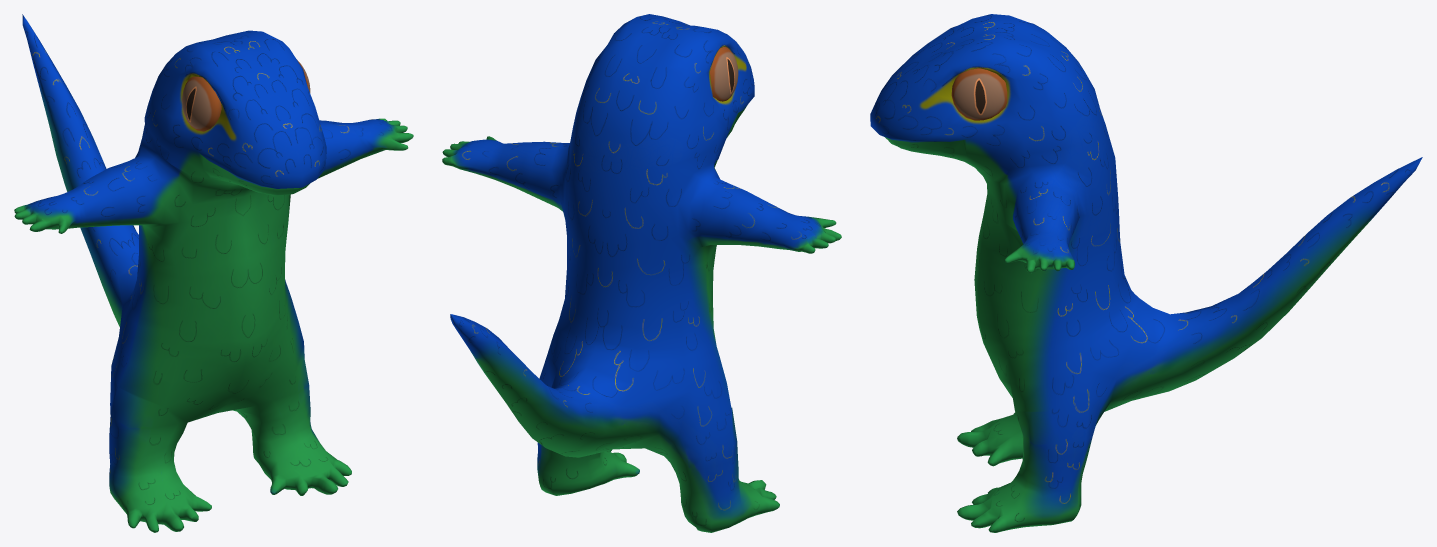
Rendered from Lizzard.fbx.
3 renders of one model, left to right at view 1: azimuth 30°, elevation 25°; view 2: azimuth 150°, elevation 25°; view 3: azimuth 270°, elevation 25°, orthographic.
Parts seen in each view (by area): view 1: Lizzard_geo, Eye_R_geo; view 2: Lizzard_geo, Eye_R_geo; view 3: Lizzard_geo, Eye_L_geo.
Part boxes in pixels (box(x1,y1,x2,y2)): Lizzard_geo: box(14, 14, 413, 532); Eye_R_geo: box(182, 76, 221, 131); Lizzard_geo: box(442, 14, 841, 532); Eye_R_geo: box(710, 47, 738, 101); Lizzard_geo: box(870, 14, 1422, 532); Eye_L_geo: box(951, 68, 1007, 120).
Bounding box in the file's own units: 4.67 × 5.35 × 5.88.
2 materials, 2 textured.
